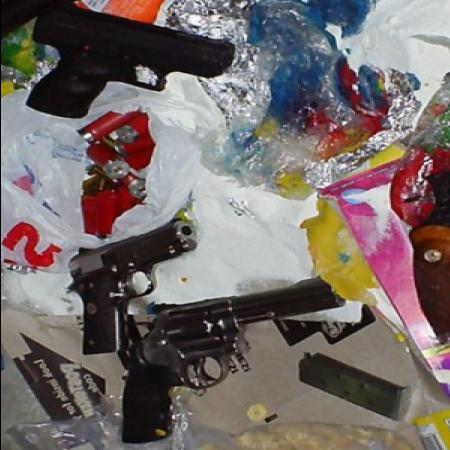Pistol: (114, 272, 339, 444), (22, 1, 234, 117), (63, 215, 192, 355)
